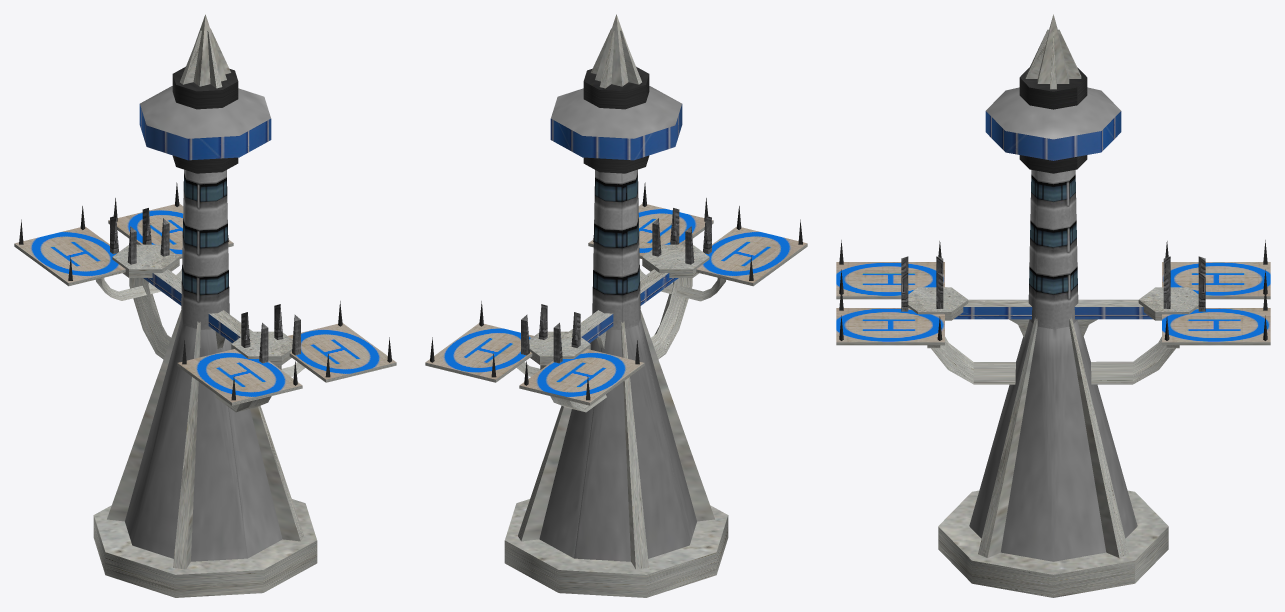
File: Tower.fbx
3 renders of one model, left to right at view 1: azimuth 30°, elevation 25°; view 2: azimuth 150°, elevation 25°; view 3: azimuth 270°, elevation 25°, orthographic.
Visible parts, largest first — view 1: polySurface45; view 2: polySurface45; view 3: polySurface45.
Part boxes in pixels (x1,y1,x2,y2): polySurface45: [14, 14, 396, 597]; polySurface45: [425, 14, 807, 597]; polySurface45: [836, 14, 1270, 597].
Size of the model in its own units: 1700 by 4354 by 3200.
1 material, 1 textured.
